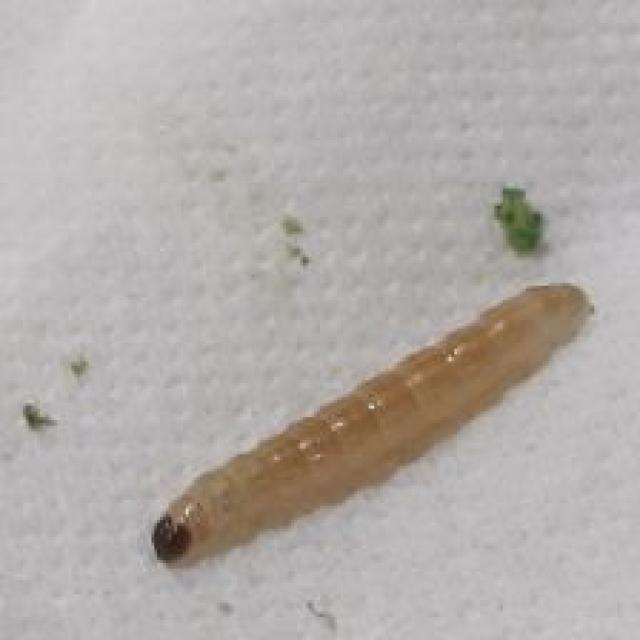white mucus: (147, 264, 586, 575)
